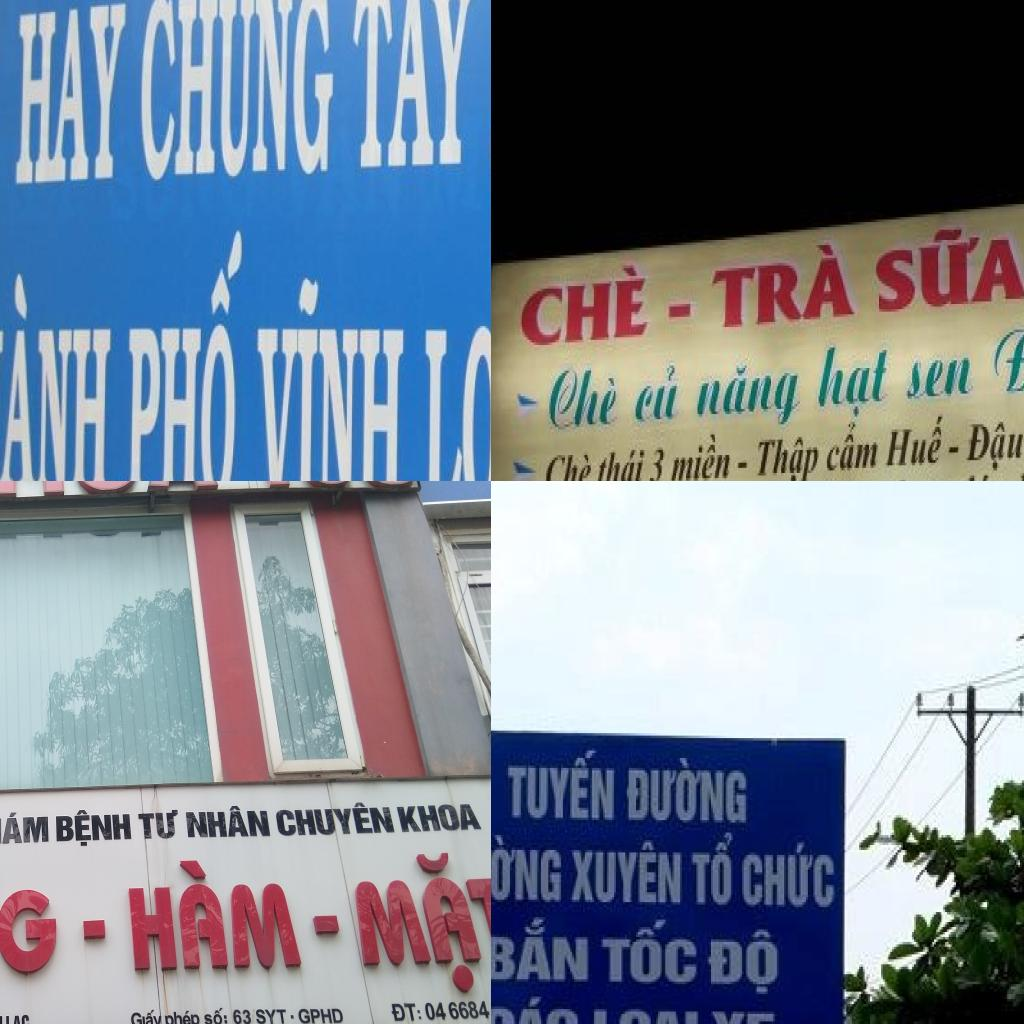text: (139, 0, 336, 184), (125, 229, 254, 481), (252, 278, 407, 481), (0, 269, 116, 481), (14, 0, 137, 186), (352, 0, 477, 170), (125, 856, 304, 971), (350, 850, 491, 995), (706, 235, 863, 340), (870, 219, 1024, 321), (516, 258, 656, 355), (621, 750, 753, 832), (422, 327, 491, 481), (502, 748, 622, 825), (568, 838, 688, 910), (692, 358, 807, 432), (491, 914, 595, 986), (598, 917, 702, 989), (813, 337, 898, 422), (740, 840, 839, 912), (0, 864, 58, 978), (704, 920, 784, 1002), (544, 363, 626, 437), (491, 835, 566, 909), (904, 347, 978, 409), (275, 800, 395, 837), (883, 409, 950, 473), (688, 830, 738, 910), (631, 360, 686, 430), (666, 427, 735, 481), (821, 419, 881, 481), (962, 416, 1024, 475), (753, 431, 825, 481), (55, 807, 133, 847), (988, 321, 1024, 401), (186, 805, 271, 838), (396, 803, 482, 833), (491, 996, 583, 1024), (588, 1004, 705, 1024), (594, 445, 650, 481), (544, 449, 598, 481), (0, 811, 48, 845), (707, 1004, 778, 1024), (662, 294, 698, 330), (138, 809, 180, 839), (645, 444, 670, 481), (297, 1007, 344, 1024), (390, 1002, 423, 1023), (129, 1008, 162, 1024), (254, 1008, 287, 1024), (164, 1009, 199, 1024), (313, 916, 340, 934), (201, 1006, 228, 1024), (953, 470, 994, 481), (83, 919, 105, 939), (231, 1008, 252, 1024), (736, 458, 752, 476), (945, 445, 963, 460), (5, 1014, 30, 1024), (290, 1014, 294, 1019)
